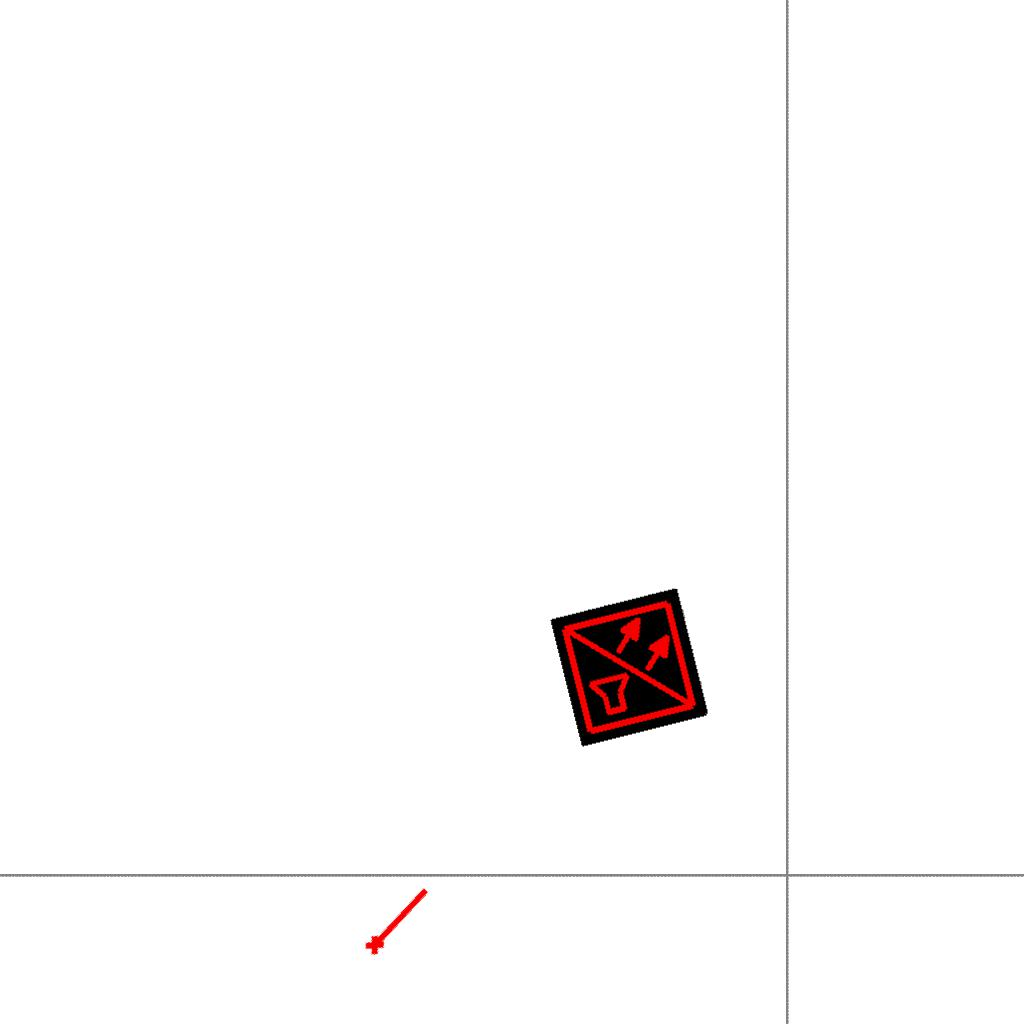ASR_Ansaugoeffnung: (358, 879, 436, 960)
OKW_Multisensormelder_(Kombination_optischer_Rauch-Kahlenmonoxid_Waerme-Melder): (549, 586, 711, 748)
